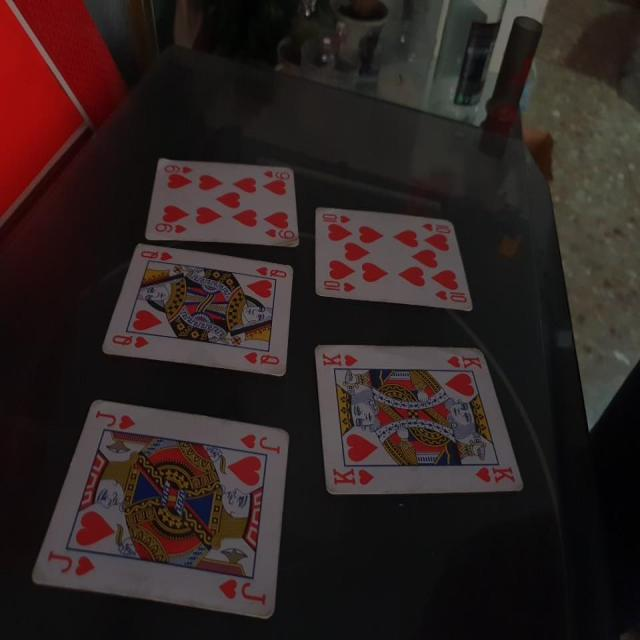10 Hearts: (311, 197, 479, 319)
9 Hearts: (136, 147, 304, 250)
J Hearts: (24, 384, 294, 639)
K Hearts: (311, 334, 529, 499)
Q Hearts: (92, 240, 301, 386)
